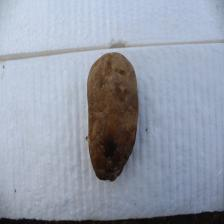Diseased-fungal potato: (84, 50, 141, 184)
